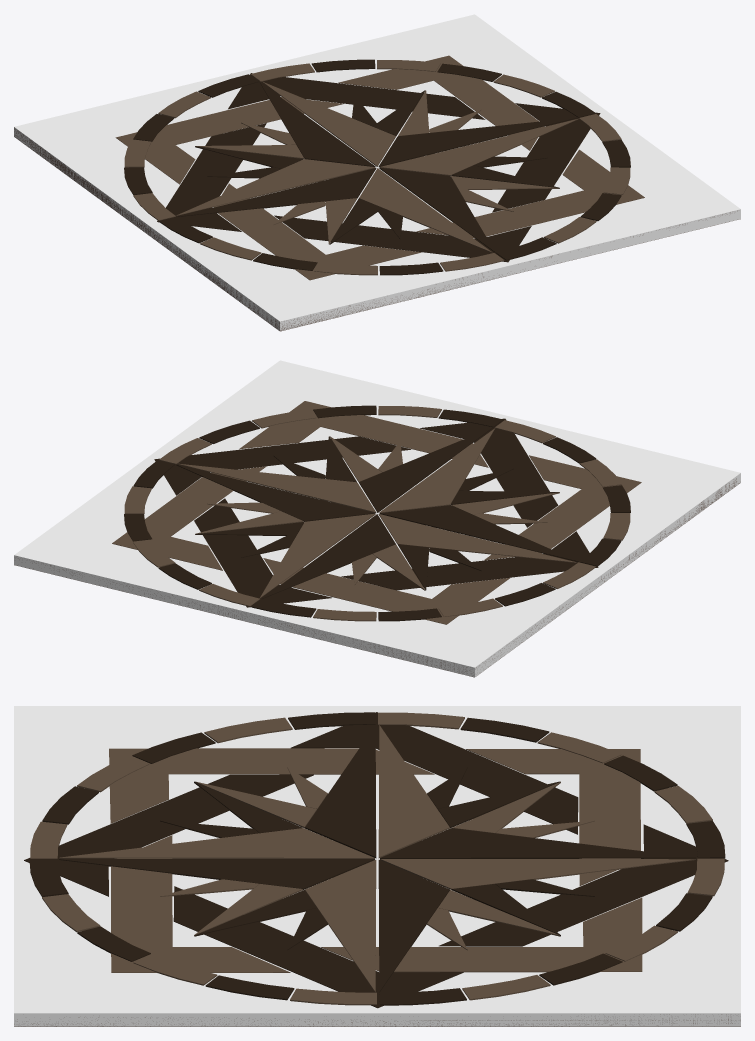
Rendered from InlayFloor.fbx.
3 views of the same model, one above another, from view 1: azimuth 30°, elevation 25°; view 2: azimuth 150°, elevation 25°; view 3: azimuth 270°, elevation 25° (orthographic). The views are drawn at different scales.
Parts seen in each view (by area): view 1: Inlay2_MSH, Inlay1_MSH, Inlay3_MSH; view 2: Inlay2_MSH, Inlay1_MSH, Inlay3_MSH; view 3: Inlay2_MSH, Inlay1_MSH, Inlay3_MSH.
Part boxes in pixels (x1,y1,x2,y2): Inlay2_MSH: [14, 14, 740, 330]; Inlay1_MSH: [14, 55, 740, 331]; Inlay3_MSH: [14, 127, 740, 331]; Inlay2_MSH: [14, 360, 740, 673]; Inlay1_MSH: [14, 401, 740, 677]; Inlay3_MSH: [14, 478, 739, 677]; Inlay2_MSH: [14, 706, 740, 1026]; Inlay1_MSH: [14, 712, 740, 1026]; Inlay3_MSH: [14, 1014, 740, 1026].
Size of the model in its own units: 1000 by 22.6 by 1000.
